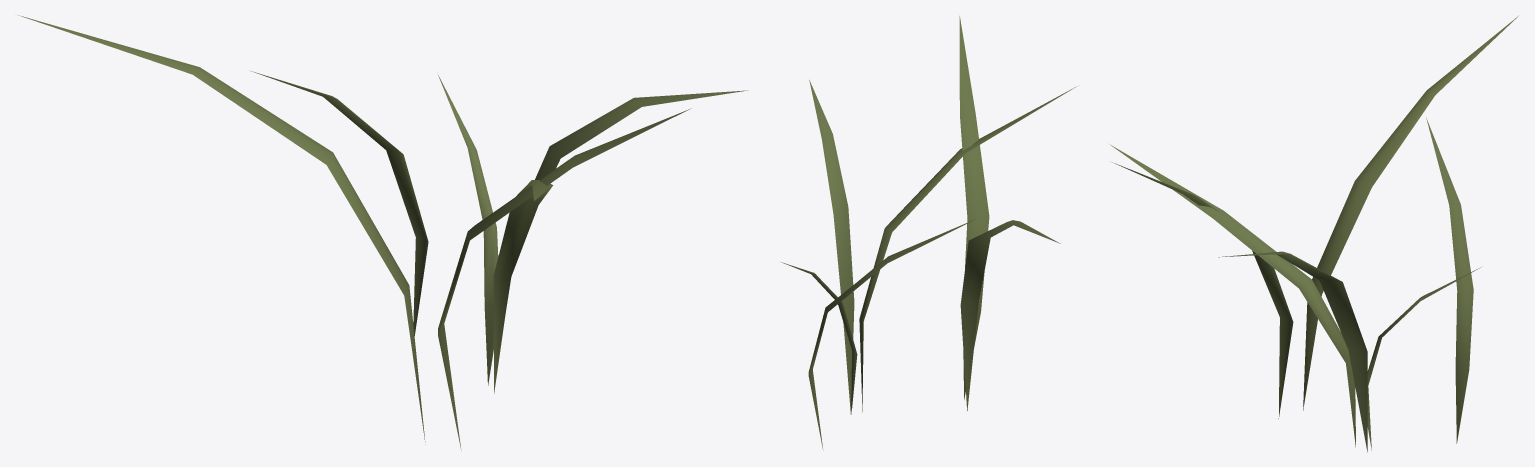
File: corealm_grass_1.glb
3 views of the same model, side by side, from view 1: azimuth 30°, elevation 25°; view 2: azimuth 150°, elevation 25°; view 3: azimuth 270°, elevation 25° (orthographic). The views are drawn at different scales.
Parts seen in each view (by area): view 1: corealm_grass_1; view 2: corealm_grass_1; view 3: corealm_grass_1.
Boxes of the visible parts, x1=… form: corealm_grass_1: x1=18, y1=15, x2=748, y2=449; corealm_grass_1: x1=781, y1=16, x2=1076, y2=450; corealm_grass_1: x1=1110, y1=16, x2=1518, y2=452.
Size of the model in its own units: 0.5627 by 0.4007 by 0.4954.
